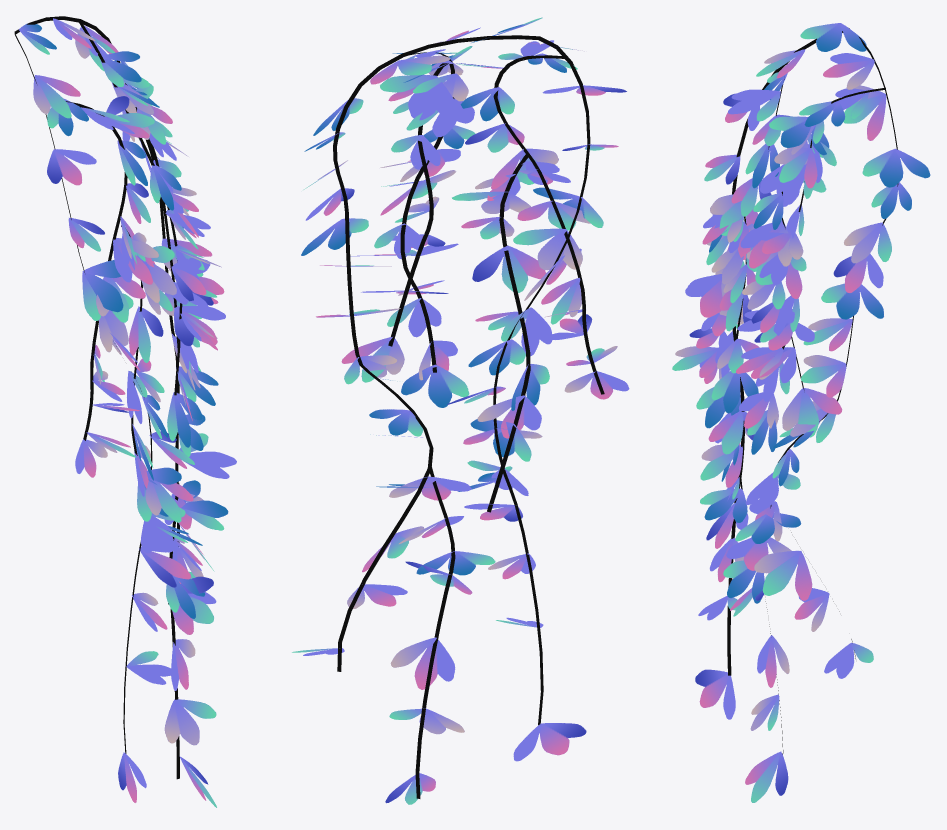
The model's file is SM_ivy_T_round_A.FBX.
3 renders of one model, left to right at view 1: azimuth 30°, elevation 25°; view 2: azimuth 150°, elevation 25°; view 3: azimuth 270°, elevation 25°, orthographic. The views are drawn at different scales.
Visible parts, largest first — view 1: SM_ivy_T_round_A; view 2: SM_ivy_T_round_A; view 3: SM_ivy_T_round_A.
Part boxes in pixels (<box>): SM_ivy_T_round_A: <box>14,16,236,807</box>; SM_ivy_T_round_A: <box>292,17,629,804</box>; SM_ivy_T_round_A: <box>672,23,930,802</box>.
Size of the model in its own units: 180 by 547 by 187.
2 materials, 1 textured.
